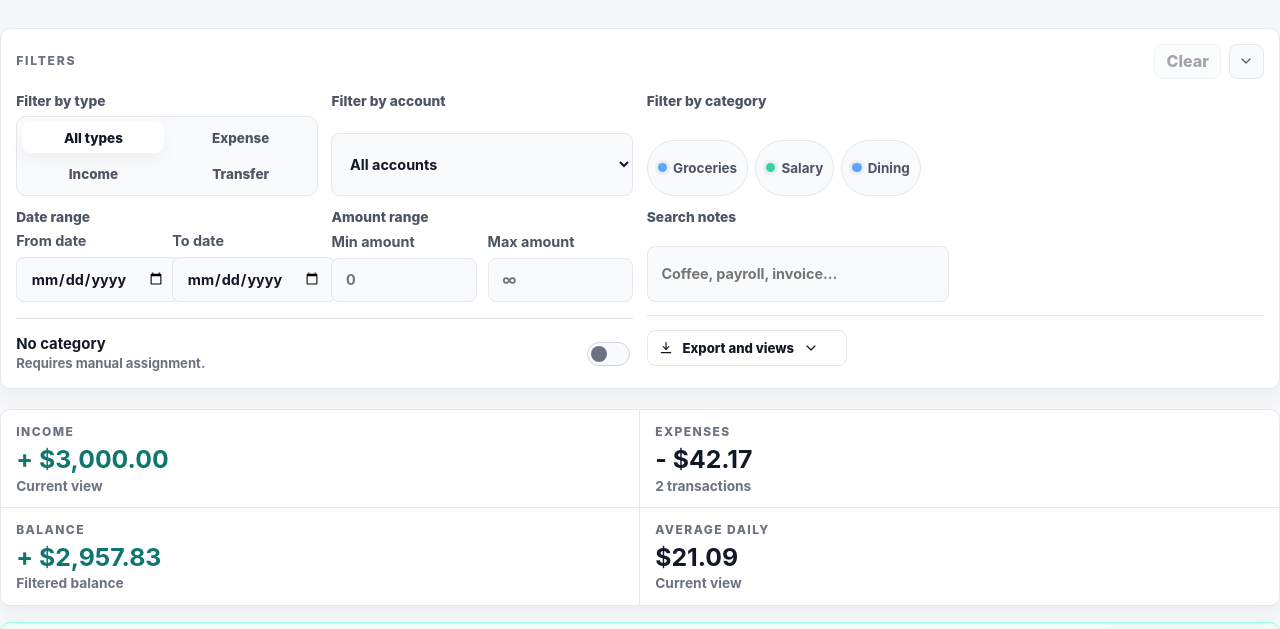
Scenario: TransactionsPage › exports filtered transactions and categories/budget csv files
This screenshot has width=1280, height=629.
Check: the button "Export CSV" is not shown
Click the button "Export and views".
click(747, 348)  # box [647,330,847,366]
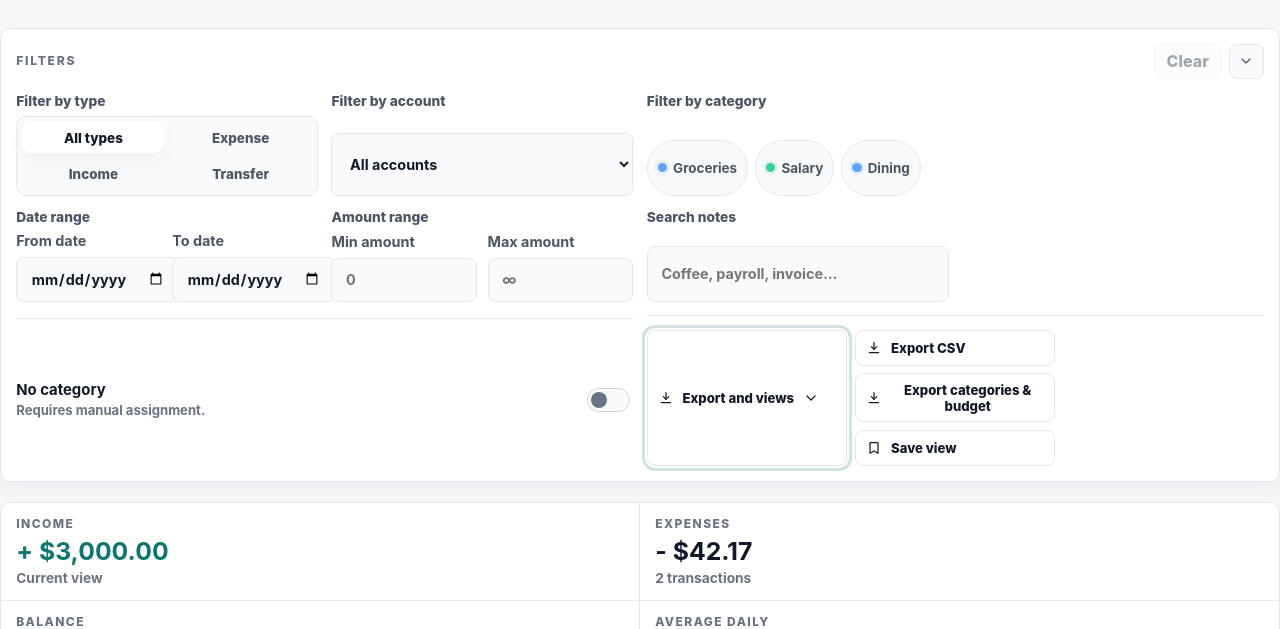
Click the button "Export CSV".
click(955, 348)  # box [855,330,1055,366]
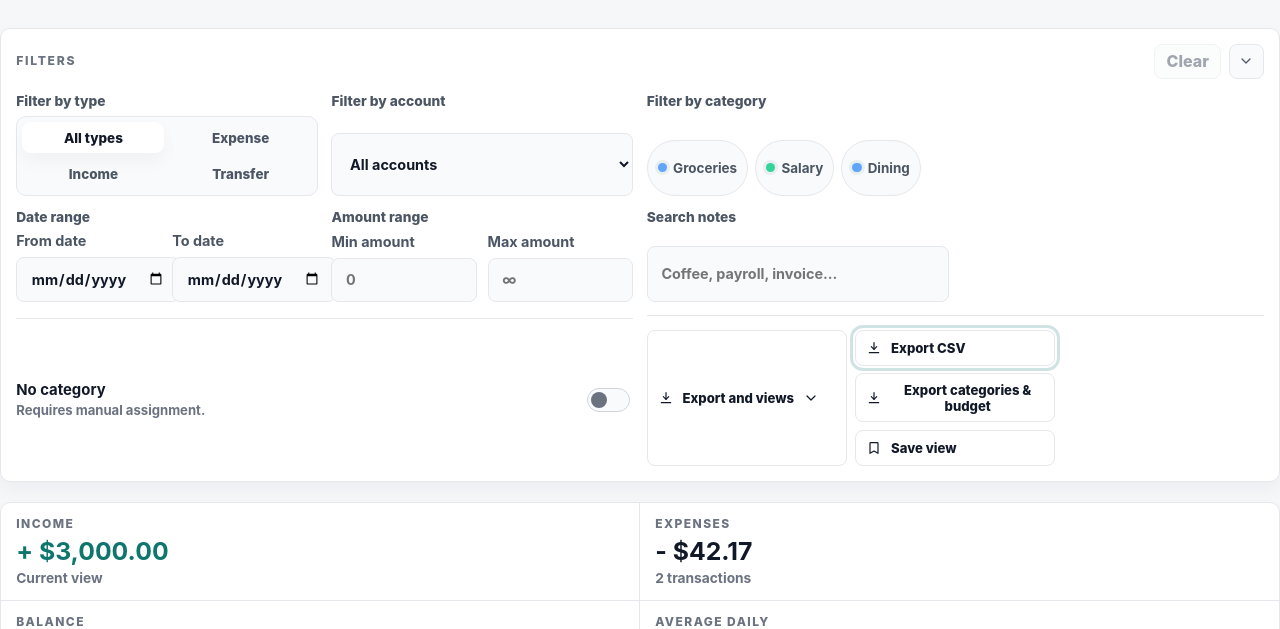
Click the button "Export categories & budget".
click(955, 398)  # box [855,373,1055,422]
(page scrolled)
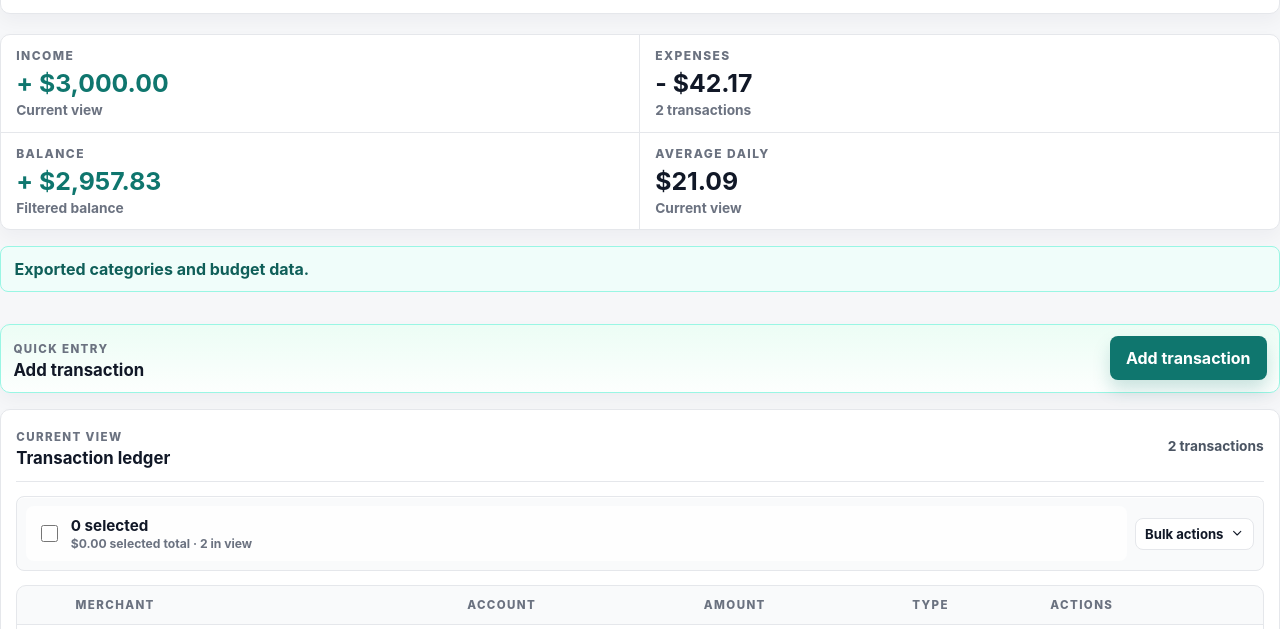
Check: the text "Exported categories and budget data." is shown, box [0,246,1279,292]
